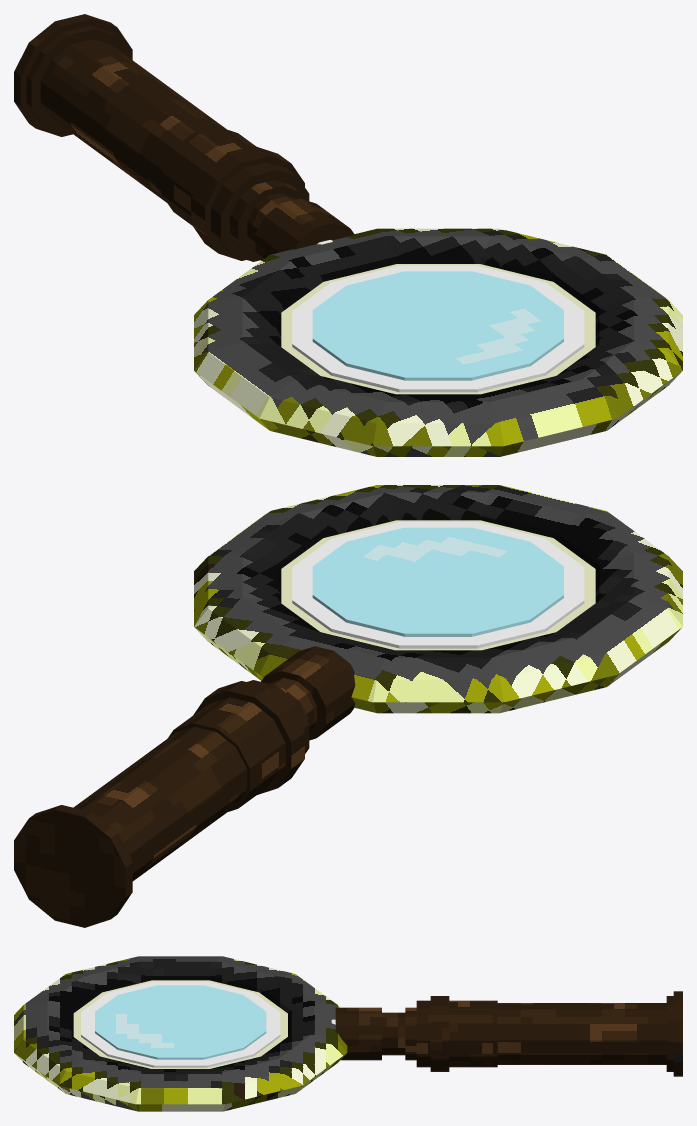
The picture shows the model from 3 angles, top to bottom: view 1: azimuth 30°, elevation 25°; view 2: azimuth 150°, elevation 25°; view 3: azimuth 270°, elevation 25°; orthographic projection. The views are drawn at different scales.
Visible parts, largest first — view 1: cylinder (×12), torus; view 2: cylinder (×9), torus; view 3: cylinder (×12), torus.
Boxes of the visible parts, bbox=[...] form: cylinder (×12): bbox=[14, 14, 595, 394]; torus: bbox=[194, 228, 682, 456]; cylinder (×9): bbox=[14, 520, 595, 927]; torus: bbox=[194, 485, 682, 713]; cylinder (×12): bbox=[73, 980, 682, 1076]; torus: bbox=[14, 956, 347, 1111].
Bounding box in the file's own units: 0.9 × 0.225 × 1.81.
Materials: 6 (5 with a texture image).
